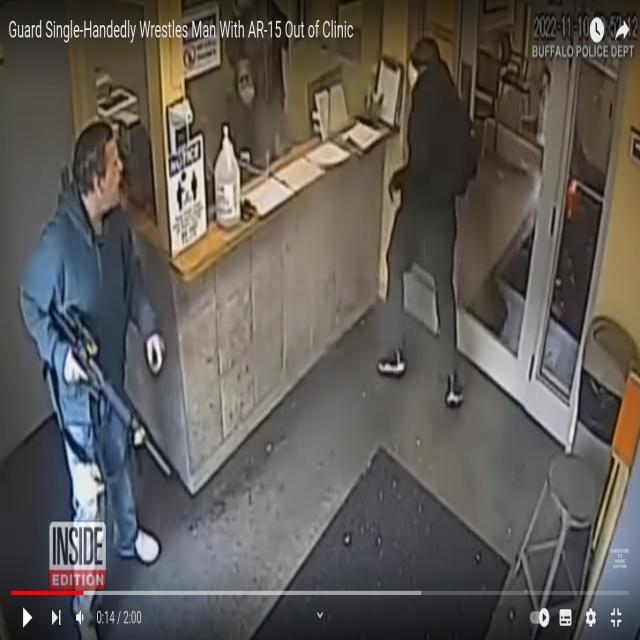RifleTel: (46, 296, 176, 486)
